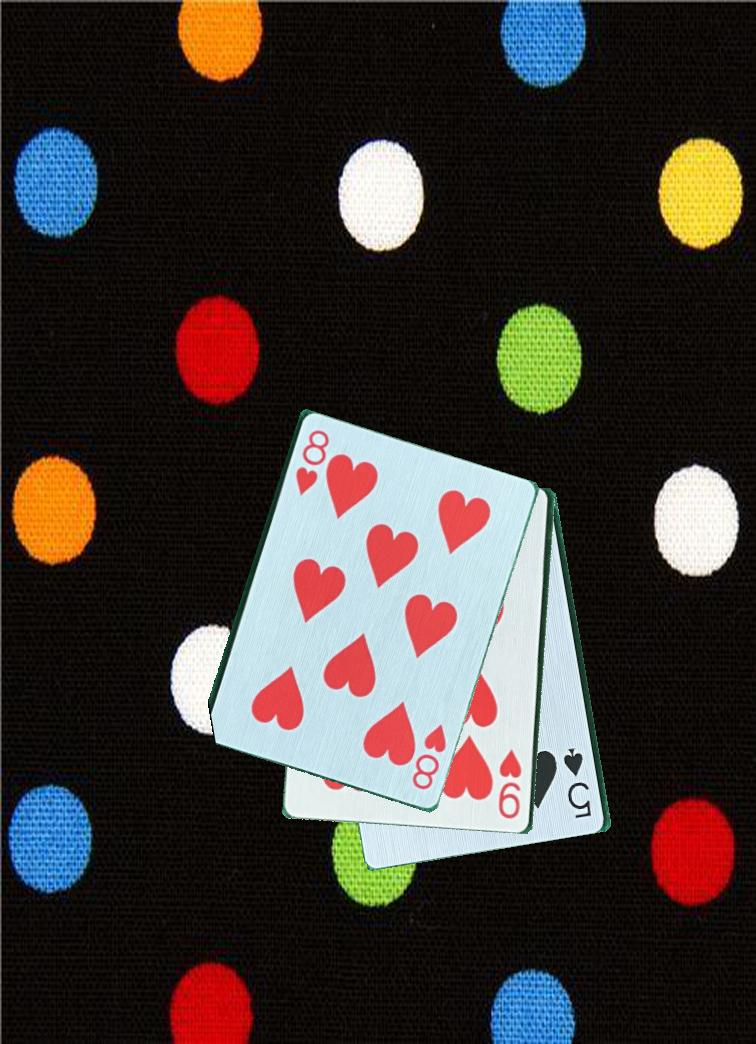5s: (562, 745, 597, 828)
8h: (291, 426, 333, 505), (408, 721, 450, 794)
9h: (496, 747, 525, 823)
